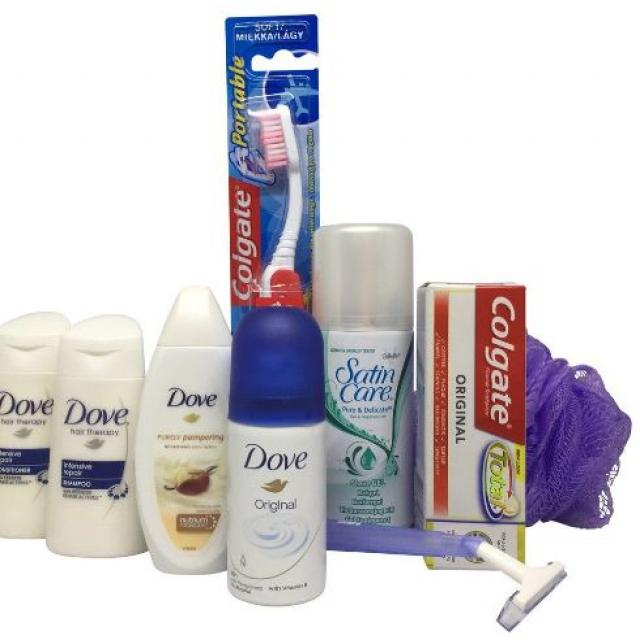paper: (416, 272, 546, 582)
plastic: (308, 210, 432, 560), (219, 8, 331, 328), (44, 308, 174, 574), (224, 302, 334, 614)
